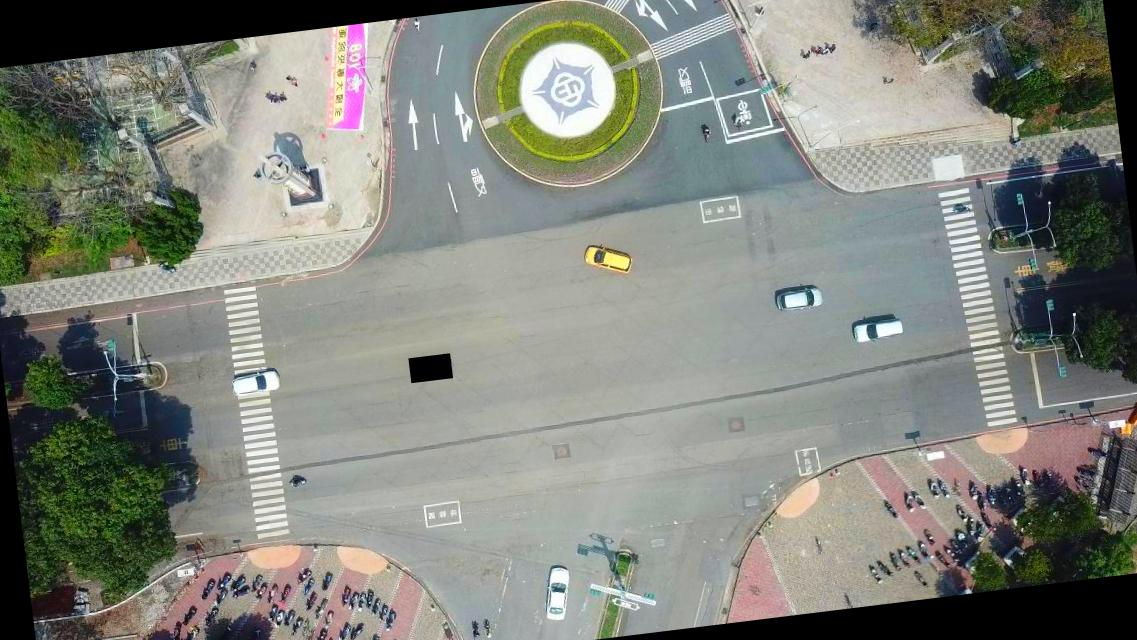vehicle: (538, 565, 574, 623), (581, 239, 633, 279), (230, 366, 282, 398), (850, 316, 904, 344), (773, 284, 823, 313)
